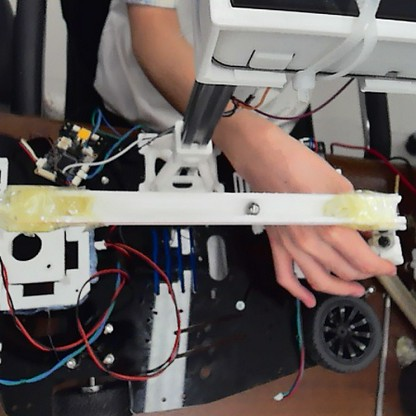ironball: (245, 198, 260, 215)
